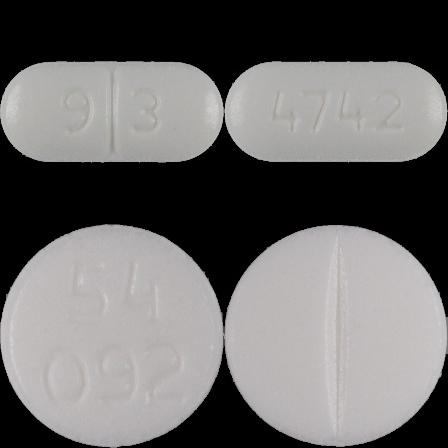0615-6512: (0, 0, 224, 224)
